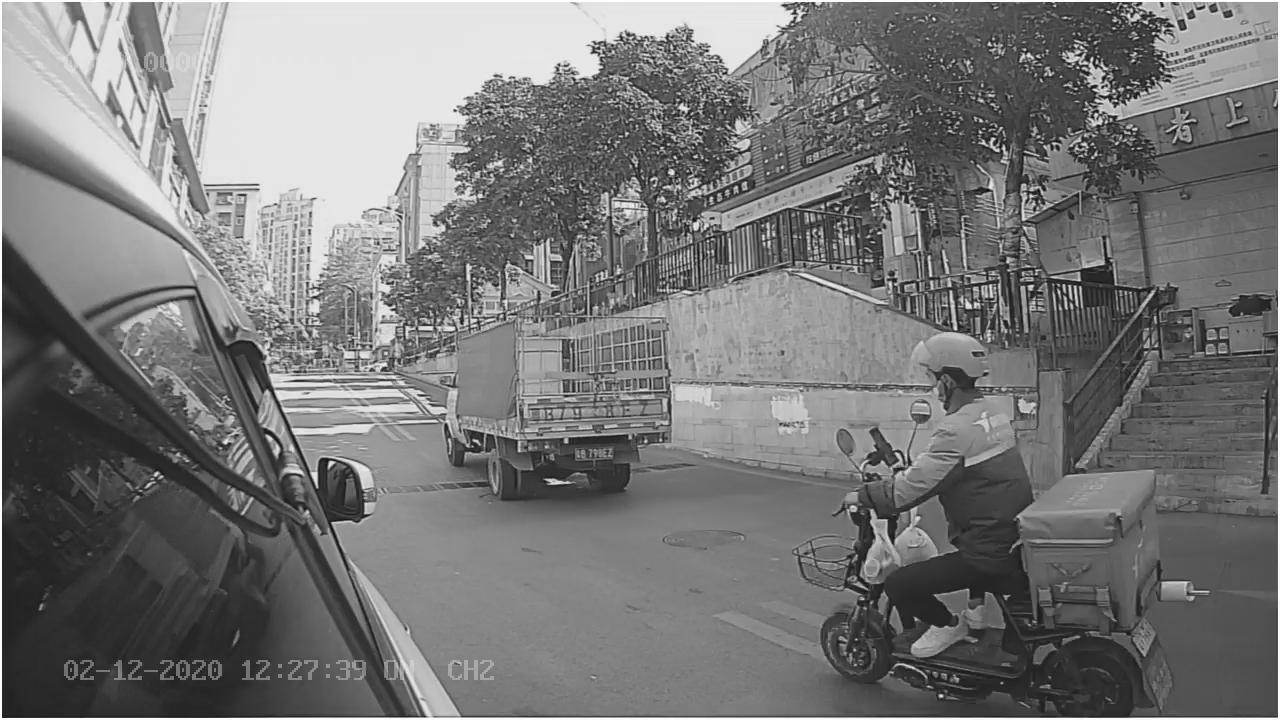person: (843, 327, 1026, 513)
